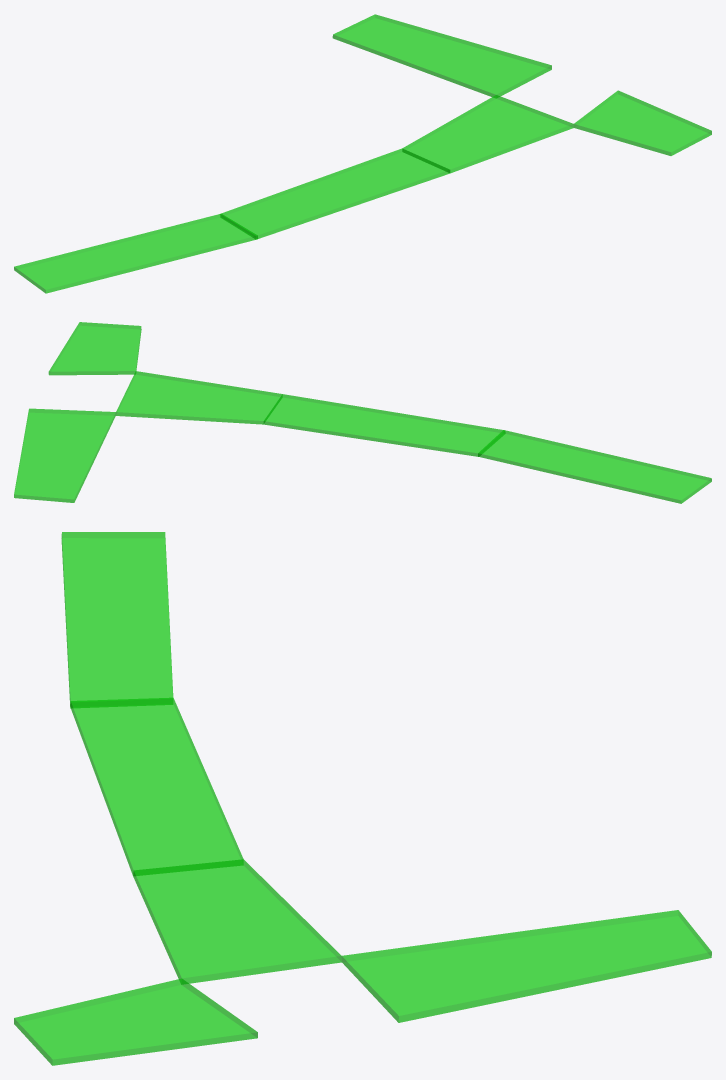
Rendered from parche_13_collider.fbx.
3 views of the same model, one above another, from view 1: azimuth 30°, elevation 25°; view 2: azimuth 150°, elevation 25°; view 3: azimuth 270°, elevation 25° (orthographic). The views are drawn at different scales.
Parts seen in each view (by area): view 1: Colliders_129, Colliders_2251, Colliders_2265, Colliders_59, Colliders_1926; view 2: Colliders_2251, Colliders_2265, Colliders_129, Colliders_59, Colliders_1926; view 3: Colliders_129, Colliders_2251, Colliders_2265, Colliders_59, Colliders_1926.
Part boxes in pixels (x1,y1,x2,y2): Colliders_129: (332, 14, 551, 97); Colliders_2251: (220, 148, 450, 239); Colliders_2265: (14, 214, 257, 293); Colliders_59: (402, 95, 573, 173); Colliders_1926: (573, 90, 711, 155); Colliders_2251: (263, 394, 505, 456); Colliders_2265: (478, 430, 711, 503); Colliders_129: (14, 408, 115, 502); Colliders_59: (115, 371, 282, 424); Colliders_1926: (48, 322, 141, 375); Colliders_129: (341, 910, 711, 1022); Colliders_2251: (70, 697, 243, 876); Colliders_2265: (61, 532, 173, 708); Colliders_59: (133, 859, 341, 984); Colliders_1926: (14, 978, 257, 1065).
Bounding box in the file's own units: 9004 × 75.55 × 5046.
